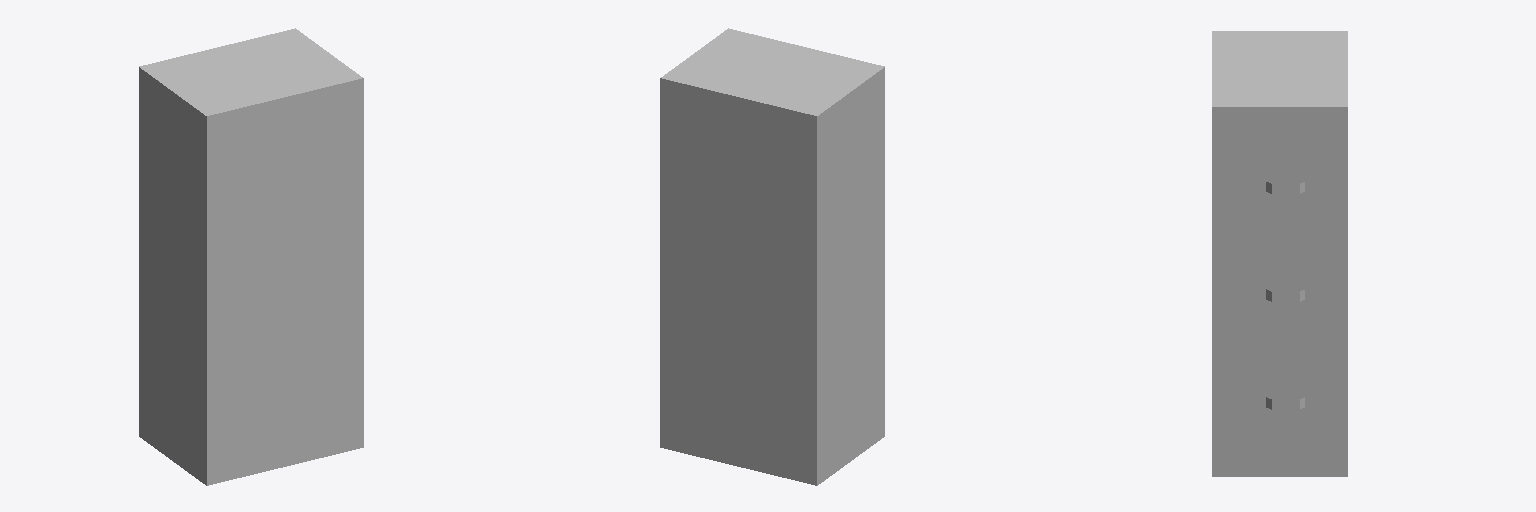
File: FILECABNET01.obj
3 renders of one model, left to right at view 1: azimuth 30°, elevation 25°; view 2: azimuth 150°, elevation 25°; view 3: azimuth 270°, elevation 25°, orthographic.
Parts seen in each view (by area): view 1: Cube.001; view 2: Cube.001; view 3: Cube.001.
Part boxes in pixels (x1,y1,x2,y2): Cube.001: (139,28,363,485); Cube.001: (660,28,884,485); Cube.001: (1212,31,1347,476).
Bounding box in the file's own units: 34 × 72 × 24.